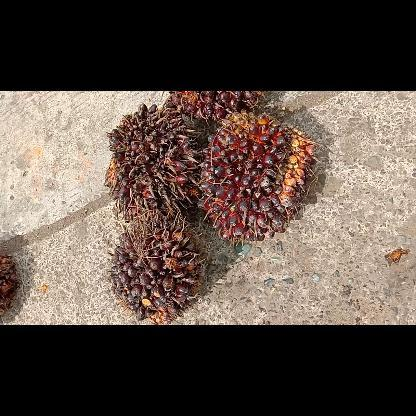Kurang masak: (195, 106, 320, 250), (103, 100, 207, 224), (107, 212, 207, 324)
